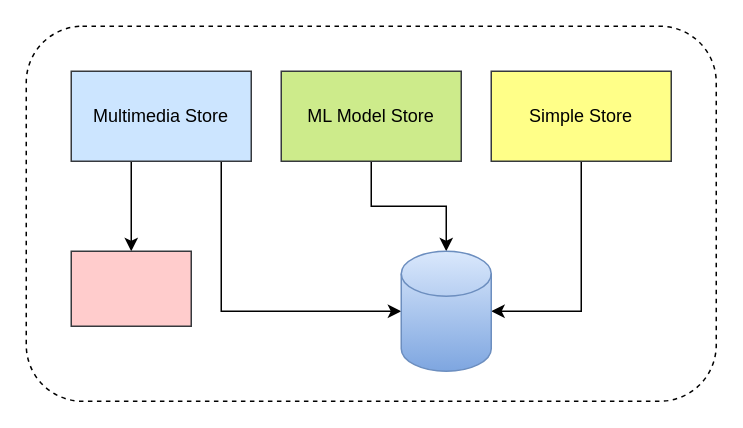
This 743x428 diagram has some shape labels left out. Each missing label, with the centre of its shape:
Filesystem: (x=130, y=288)
SQLite: (x=445, y=310)
